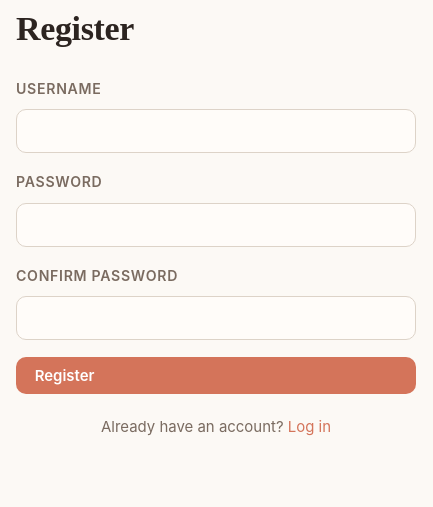
Test: Register › shows mismatch hint
Type "longenough" into the password field labelled "Password" at (216, 225), box top-left (16, 203), bottom-right (416, 247)
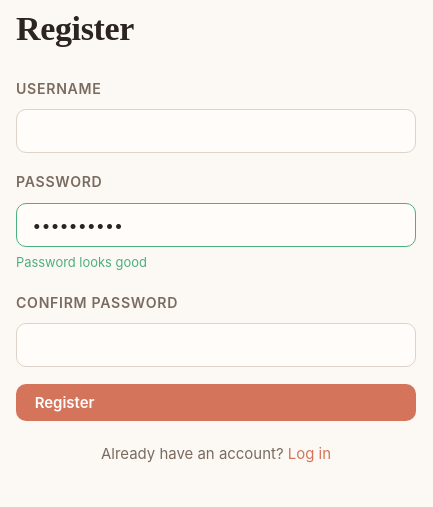
Type "different" into the password field labelled "Confirm Password" at (216, 345), box top-left (16, 323), bottom-right (416, 368)
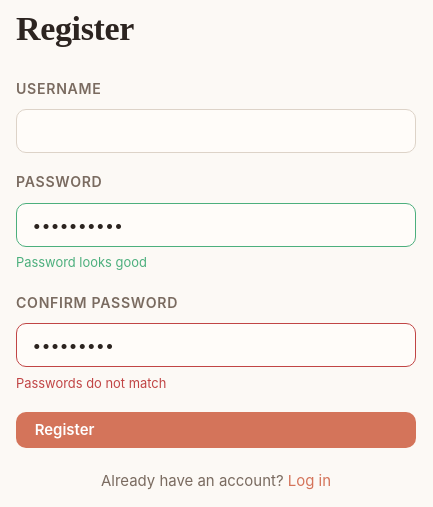
Check: the text "Passwords do not match" is shown, box top-left (16, 375), bottom-right (166, 391)
